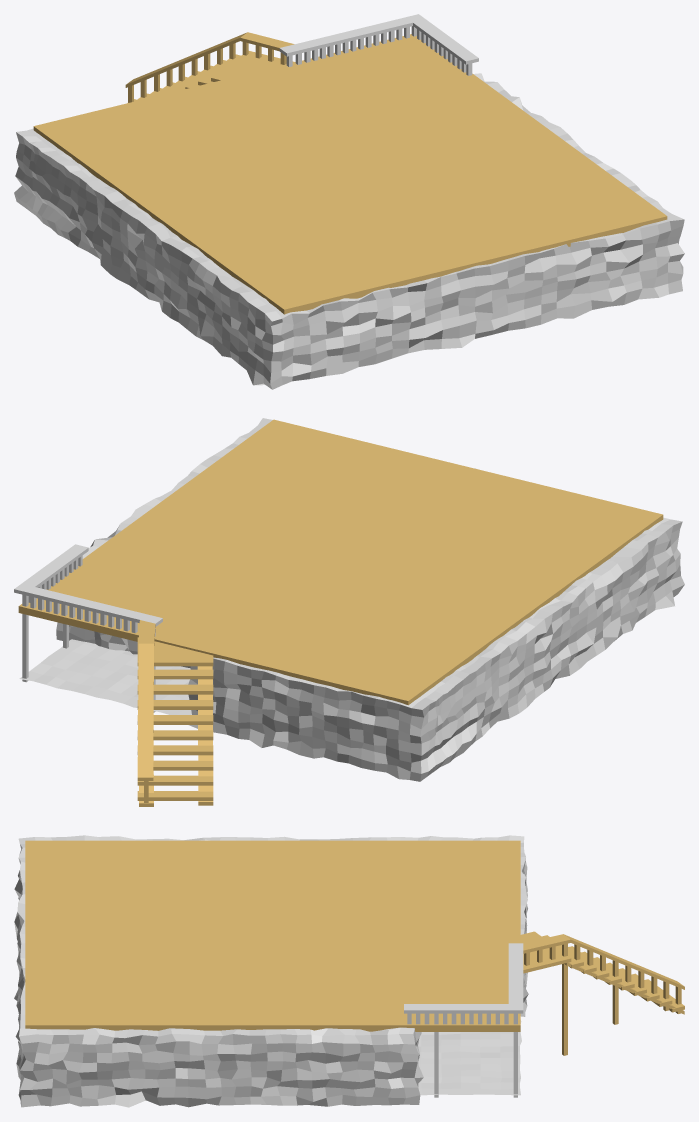
File: Basement.fbx
3 views of the same model, one above another, from view 1: azimuth 30°, elevation 25°; view 2: azimuth 150°, elevation 25°; view 3: azimuth 270°, elevation 25° (orthographic). The views are drawn at different scales.
Visible parts, largest first — view 1: UpperFloor.001, Cube, Ulkoportaat, Stairs.001; view 2: UpperFloor.001, Cube, Ulkoportaat, UpperFloor.003, Stairs.001; view 3: UpperFloor.001, Cube, UpperFloor.003, Ulkoportaat, Stairs.001.
Part boxes in pixels (x1,y1,x2,y2): UpperFloor.001: [33, 34, 667, 314]; Cube: [14, 73, 684, 389]; Ulkoportaat: [125, 32, 295, 103]; Stairs.001: [279, 14, 478, 75]; UpperFloor.001: [18, 419, 663, 705]; Cube: [56, 418, 684, 781]; Ulkoportaat: [137, 620, 213, 806]; UpperFloor.003: [19, 639, 191, 714]; Stairs.001: [14, 544, 162, 712]; UpperFloor.001: [25, 840, 520, 1031]; Cube: [14, 835, 528, 1107]; UpperFloor.003: [418, 1020, 521, 1095]; Ulkoportaat: [520, 931, 684, 1055]; Stairs.001: [404, 943, 523, 1097].
Bounding box in the file's own units: 16.54 × 4.46 × 23.04.
